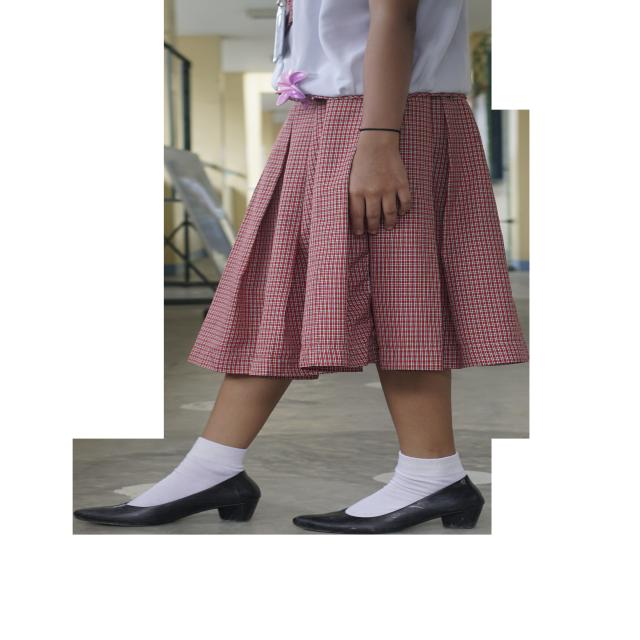shoes: (293, 476, 484, 534), (73, 471, 261, 526)
skirt: (189, 92, 528, 379)
